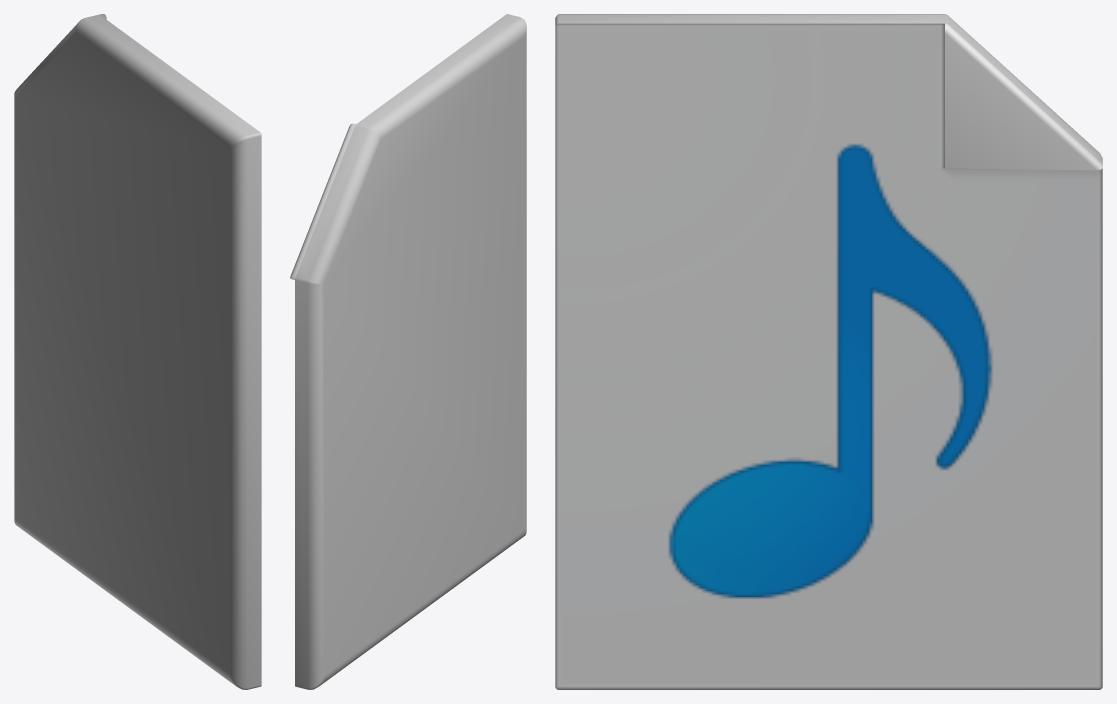
File: soundFile_aero.glb
The picture shows the model from 3 angles, left to right: view 1: azimuth 30°, elevation 25°; view 2: azimuth 150°, elevation 25°; view 3: azimuth 270°, elevation 25°; orthographic projection. The views are drawn at different scales.
Visible parts, largest first — view 1: File 3; view 2: File 3; view 3: File 3.
Boxes of the visible parts, x1,y1,x2,y2 form: File 3: [14, 14, 261, 689]; File 3: [290, 14, 526, 689]; File 3: [555, 14, 1102, 689].
Bounding box in the file's own units: 0.1133 × 1.89 × 1.41.
3 materials, 1 textured.
